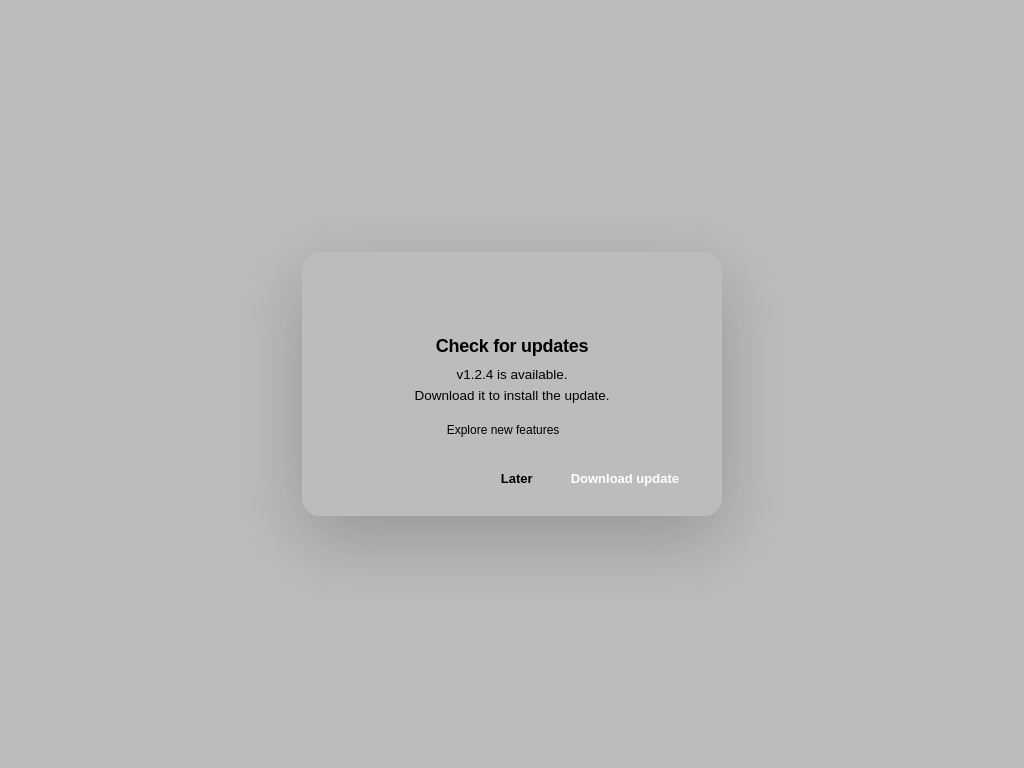
UpdateDialog › keeps copy and actions focused as an update moves from available to downloading and installing
Expected: the text "v1.2.4 is available. Download it to install the update." is shown, 414,367 -> 610,403
Expected: the button "Explore new features" is shown, 443,420 -> 581,440
Click the button "Download update" at (625, 479), box 556,462 -> 694,496
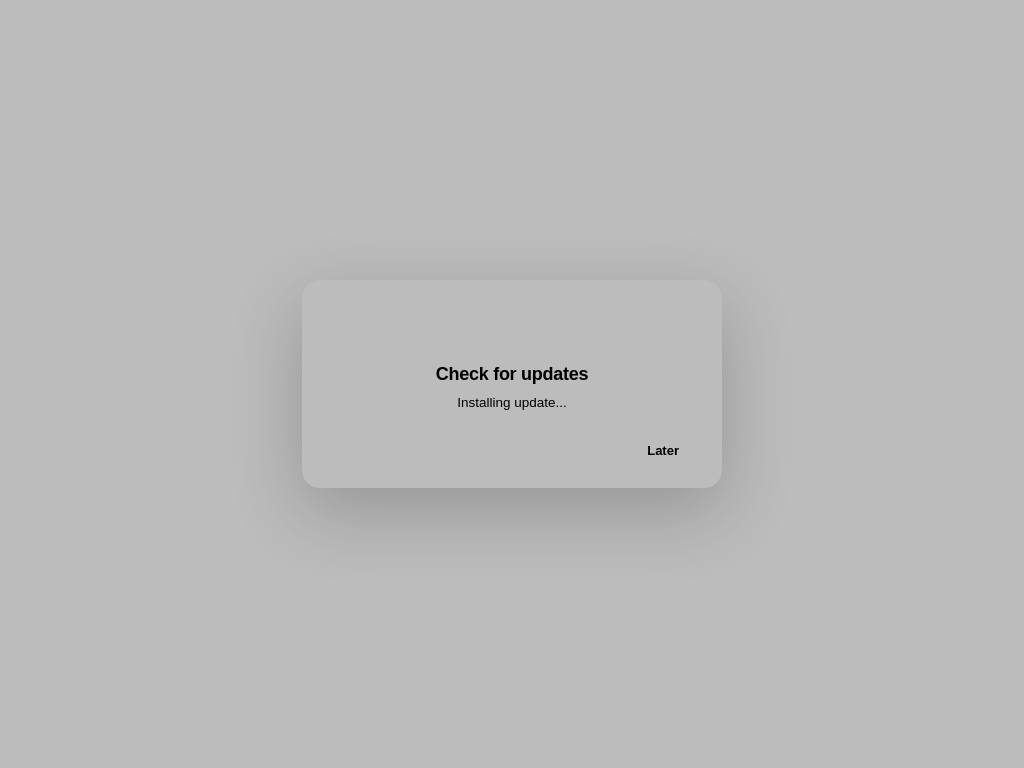
Result: the button "Download update" is gone
Result: the text "Installing update..." is shown at 457,395 -> 567,410
Result: the button "Explore new features" is gone
